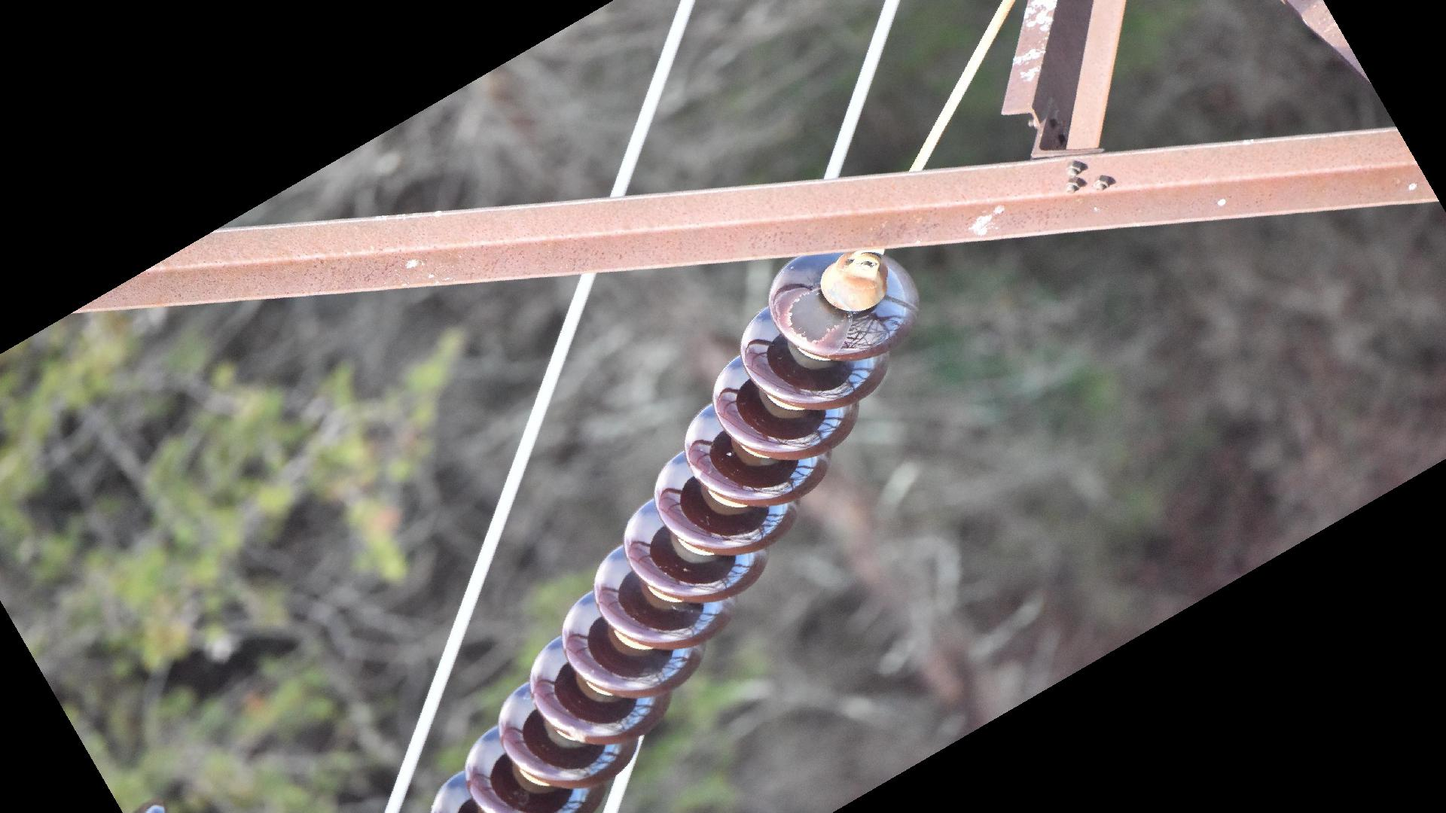insulator: (428, 247, 927, 813)
insulator_flashover: (782, 285, 846, 348)
